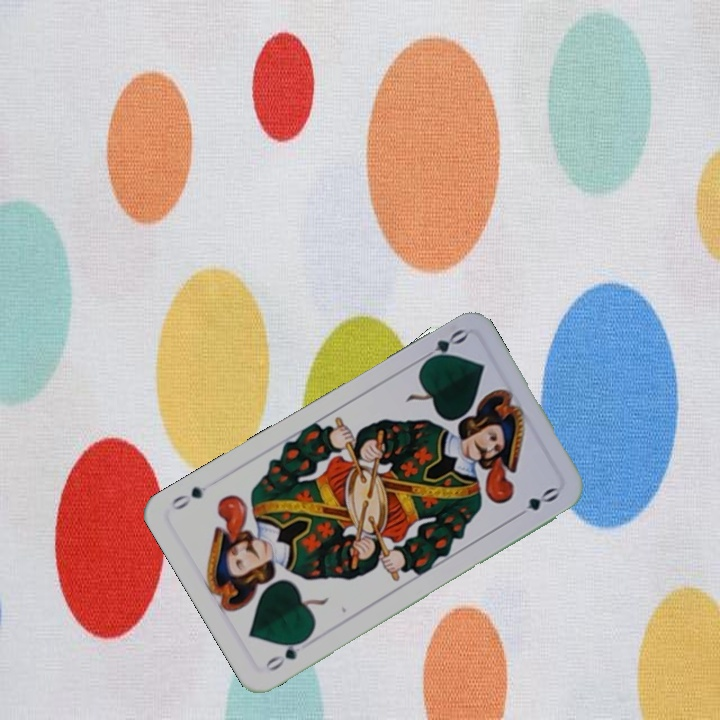GO: (415, 325, 470, 368), (261, 633, 311, 674)
